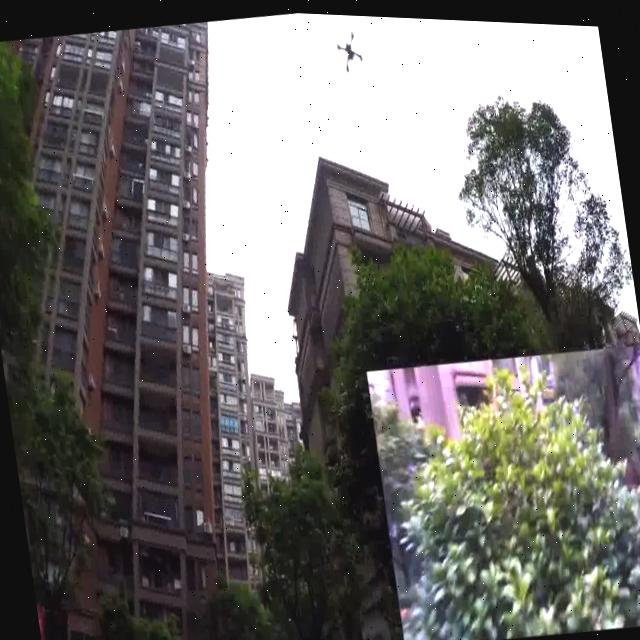drone: (329, 11, 365, 71)
